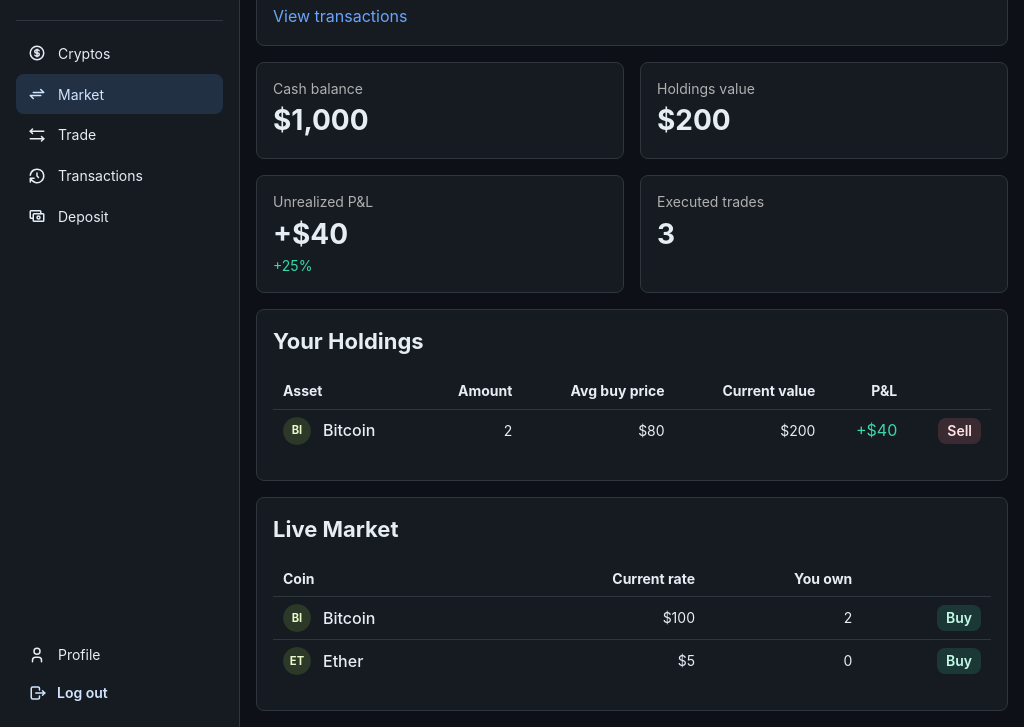
MarketPage › disables Confirm for empty, zero and tiny amounts
(page scrolled)
Step 1. Click the button with aria-label "Buy Ether" → point(959, 661), box [937, 648, 981, 674]
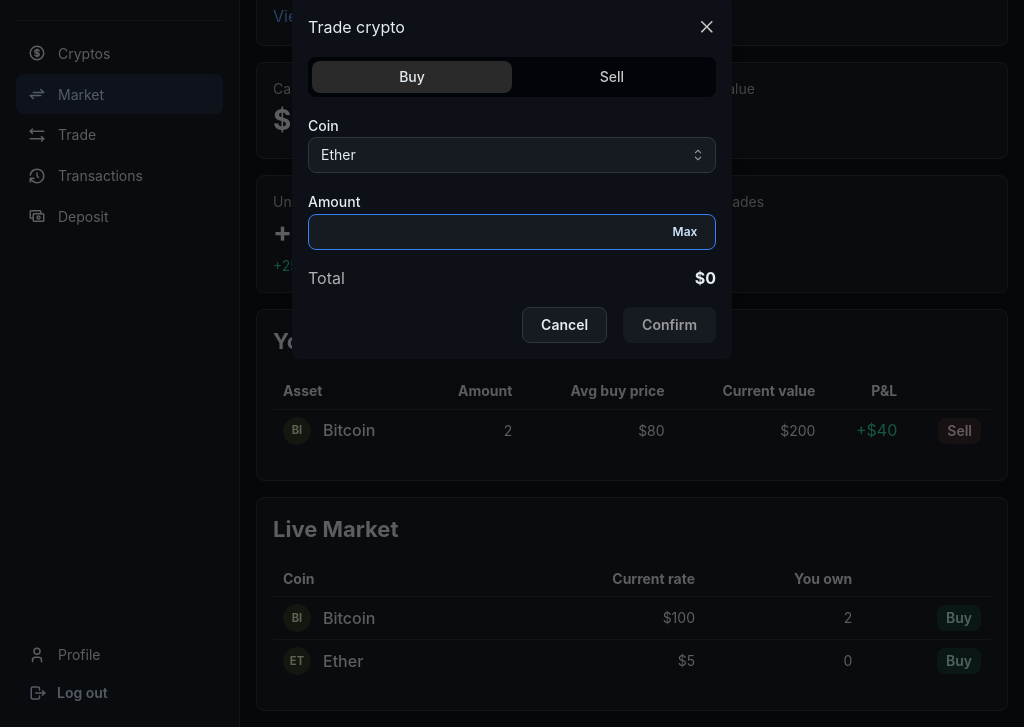
Now the button "Confirm" is disabled, box [623, 308, 716, 344]
Step 2. Type "0" into the field labelled "Amount" → point(512, 233), box [308, 215, 716, 251]
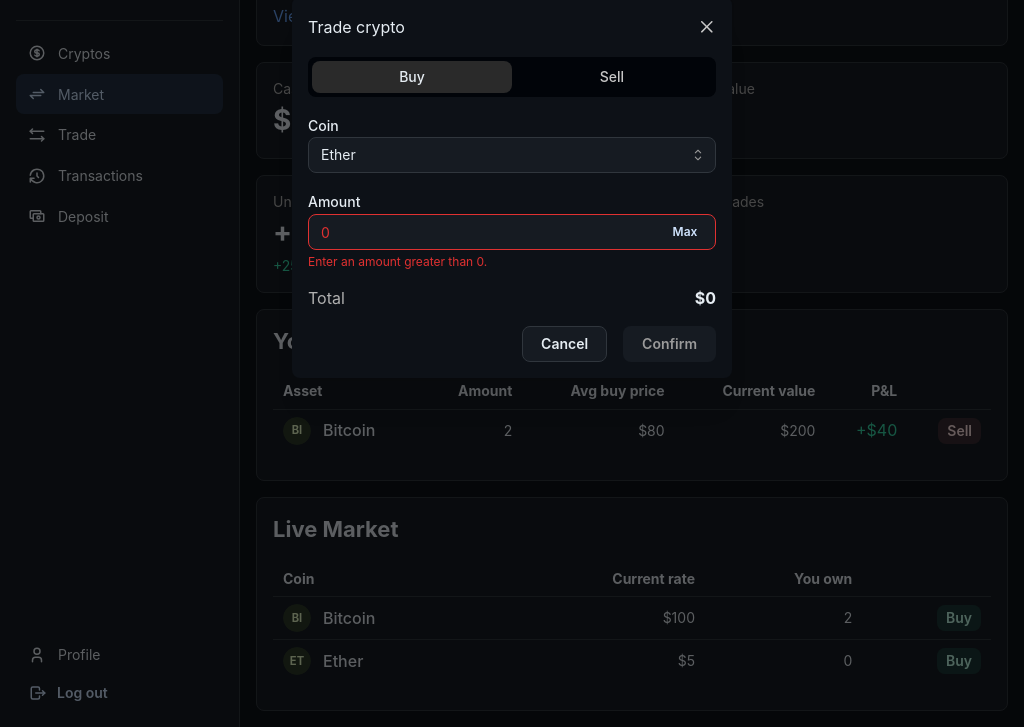
Now the button "Confirm" is disabled, box [623, 327, 716, 363]
Step 3. Replace the text in the field labelled "Amount" with "0.000000001" → point(512, 233), box [308, 215, 716, 251]
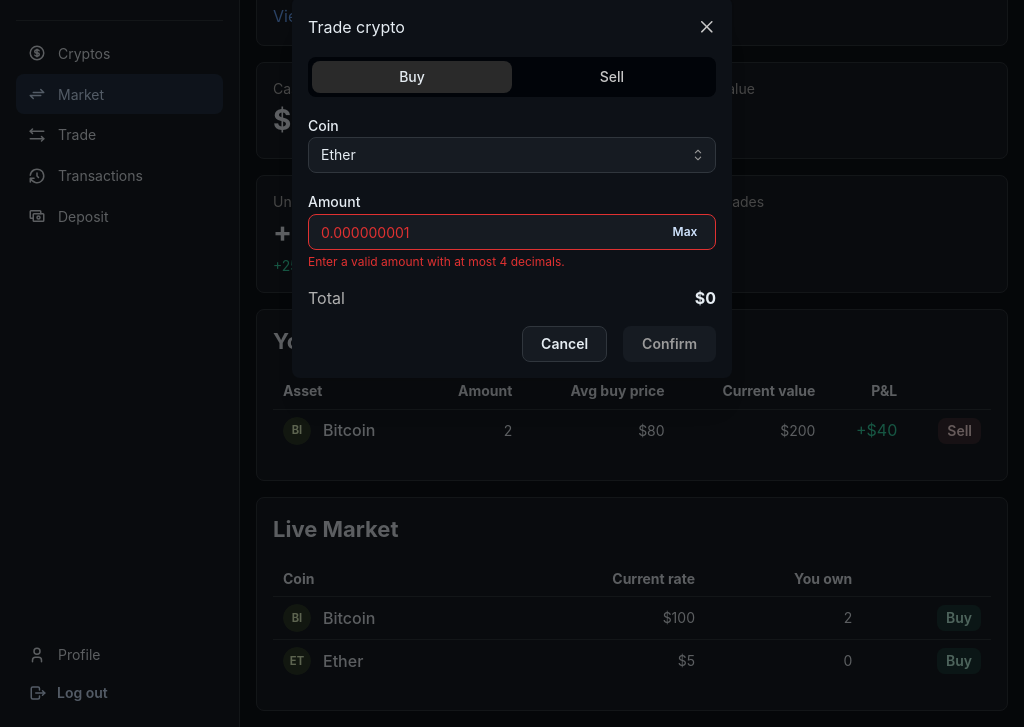
Now the button "Confirm" is disabled, box [623, 327, 716, 363]
Step 4. Replace the text in the field labelled "Amount" with "1" → point(512, 233), box [308, 215, 716, 251]
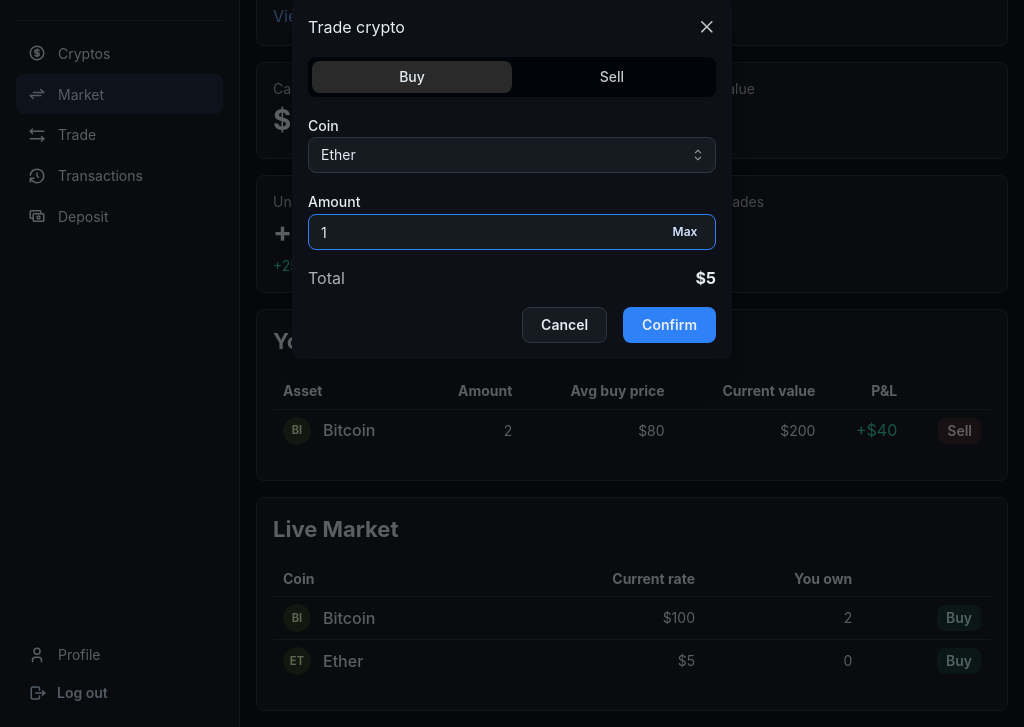
Now the button "Confirm" is enabled, box [623, 308, 716, 344]
